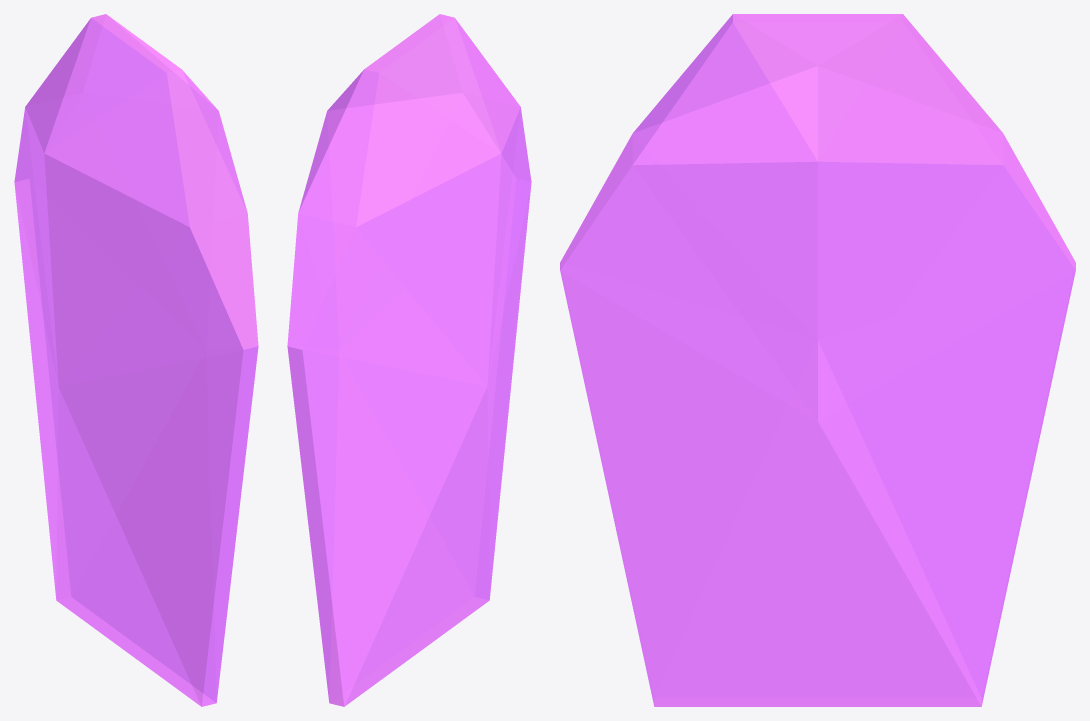
File: Rock_Candy_Shard_2.fbx
3 renders of one model, left to right at view 1: azimuth 30°, elevation 25°; view 2: azimuth 150°, elevation 25°; view 3: azimuth 270°, elevation 25°, orthographic. The views are drawn at different scales.
Visible parts, largest first — view 1: Rock candy shard; view 2: Rock candy shard; view 3: Rock candy shard.
Boxes of the visible parts, box(x1,y1,x2,y2) form: Rock candy shard: box(14, 14, 258, 706); Rock candy shard: box(287, 14, 531, 706); Rock candy shard: box(560, 14, 1075, 706).
Bounding box in the file's own units: 3.15 × 1.39 × 4.62.
